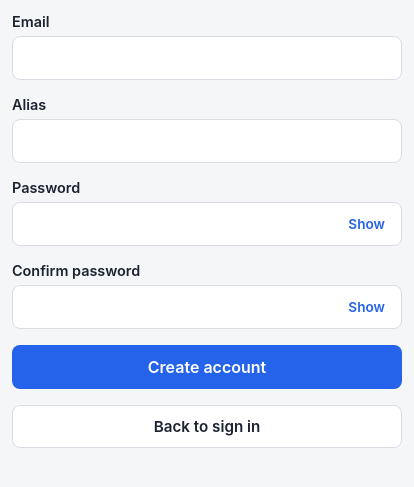
RegistrationForm › reports a password mismatch without submitting
Step 1. Type "ana@example.com" into the field labelled "Email" → (207, 58), box [12,36,402,80]
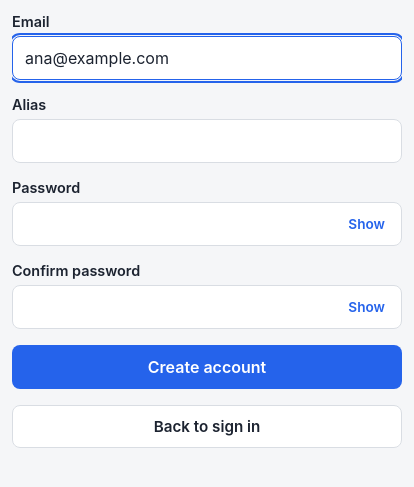
Step 2. Type "Ana" into the field labelled "Alias" → (207, 141), box [12,119,402,163]
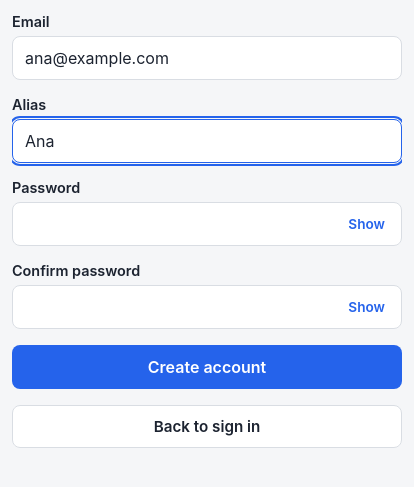
Step 3. Type "correct-horse-battery-staple" into the password field labelled "Password" → (207, 224), box [12,202,402,246]
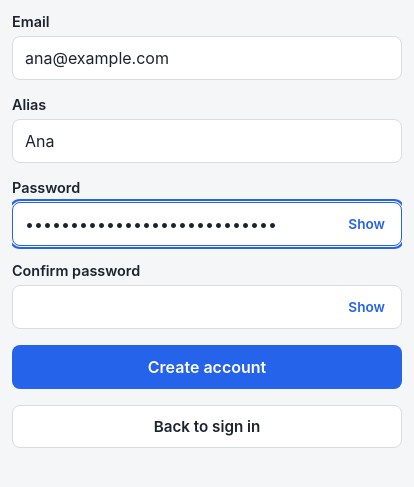
Step 4. Type "different-password" into the password field labelled "Confirm password" → (207, 307), box [12,285,402,329]
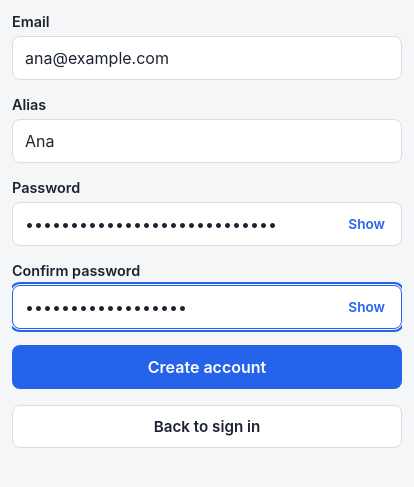
Step 5. Click the button "Create account" → (207, 367), box [12,345,402,389]
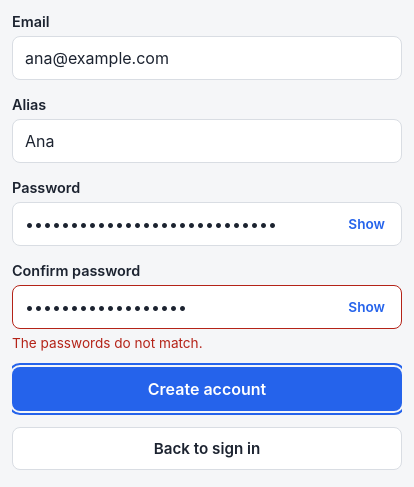
Expected: the text "The passwords do not match." is shown, [12,335,203,351]
